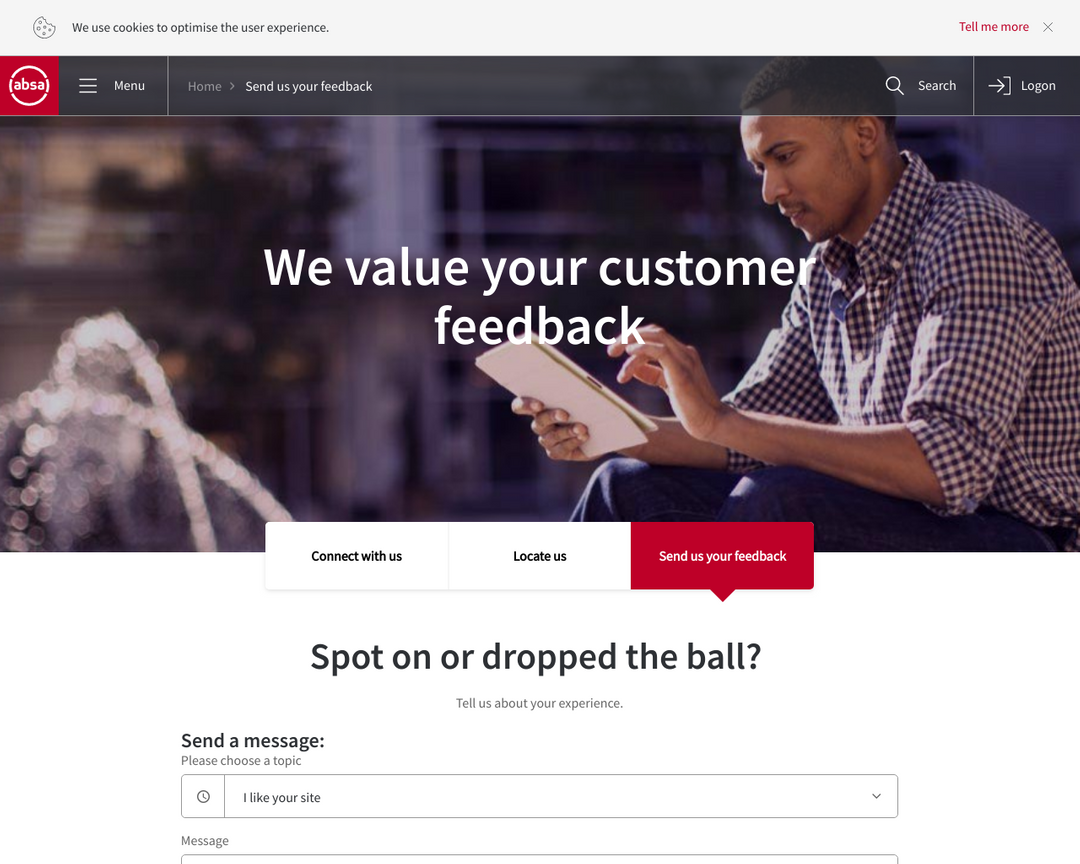ABSA: (9, 64, 52, 106)
